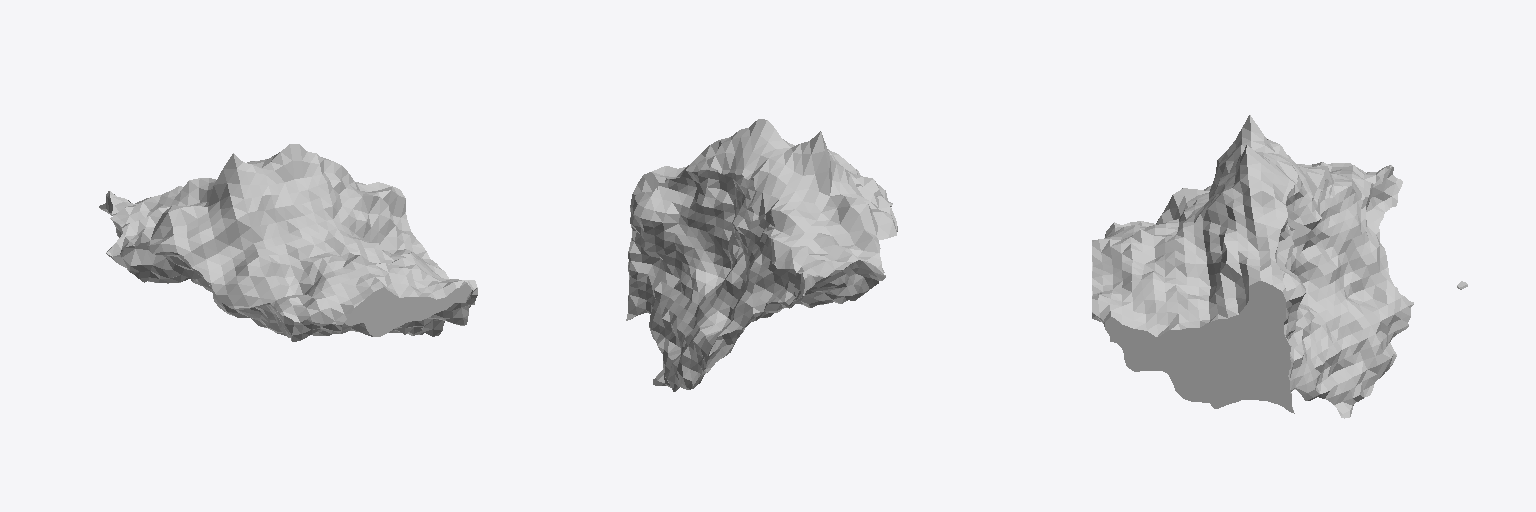
The model's file is cube_20_seed_4_shard.013.obj.
3 renders of one model, left to right at view 1: azimuth 30°, elevation 25°; view 2: azimuth 150°, elevation 25°; view 3: azimuth 270°, elevation 25°, orthographic.
Parts seen in each view (by area): view 1: Cube_shard.013_Cube_shard.153; view 2: Cube_shard.013_Cube_shard.153; view 3: Cube_shard.013_Cube_shard.153.
Part boxes in pixels (x1,y1,x2,y2): Cube_shard.013_Cube_shard.153: (99, 144, 477, 341); Cube_shard.013_Cube_shard.153: (626, 119, 897, 391); Cube_shard.013_Cube_shard.153: (1092, 115, 1467, 418).
Size of the model in its own units: 1.29 by 1.13 by 1.57.